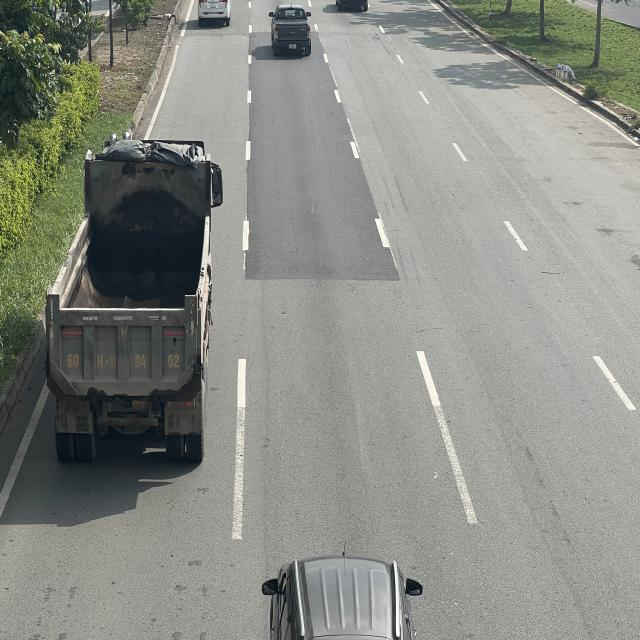car: (263, 557, 429, 640), (270, 2, 314, 52)
container: (45, 137, 224, 463)
